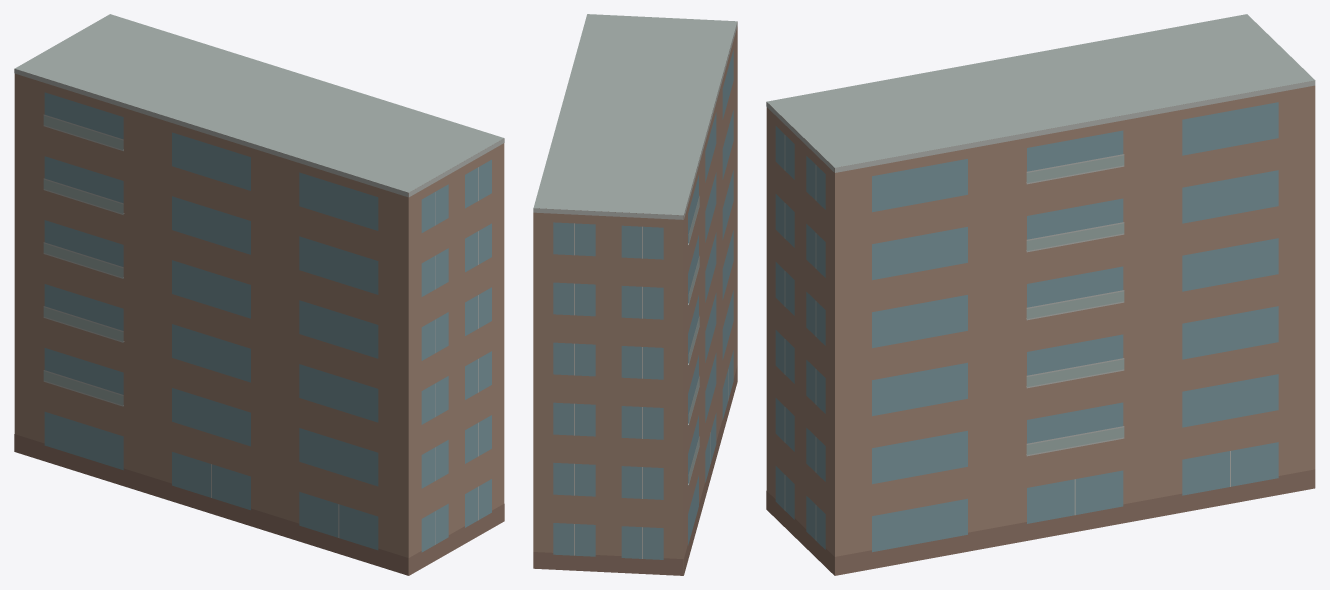
File: survey-upis-32635410.glb
3 views of the same model, side by side, from view 1: azimuth 30°, elevation 25°; view 2: azimuth 150°, elevation 25°; view 3: azimuth 270°, elevation 25° (orthographic). The views are drawn at different scales.
Parts seen in each view (by area): view 1: survey-upis-32635410.tmp; view 2: survey-upis-32635410.tmp; view 3: survey-upis-32635410.tmp.
Boxes of the visible parts, box(x1,y1,x2,y2) form: survey-upis-32635410.tmp: box(14, 14, 504, 575); survey-upis-32635410.tmp: box(533, 14, 737, 575); survey-upis-32635410.tmp: box(766, 14, 1315, 575).
Size of the model in its own units: 15.79 by 19.5 by 23.79.
